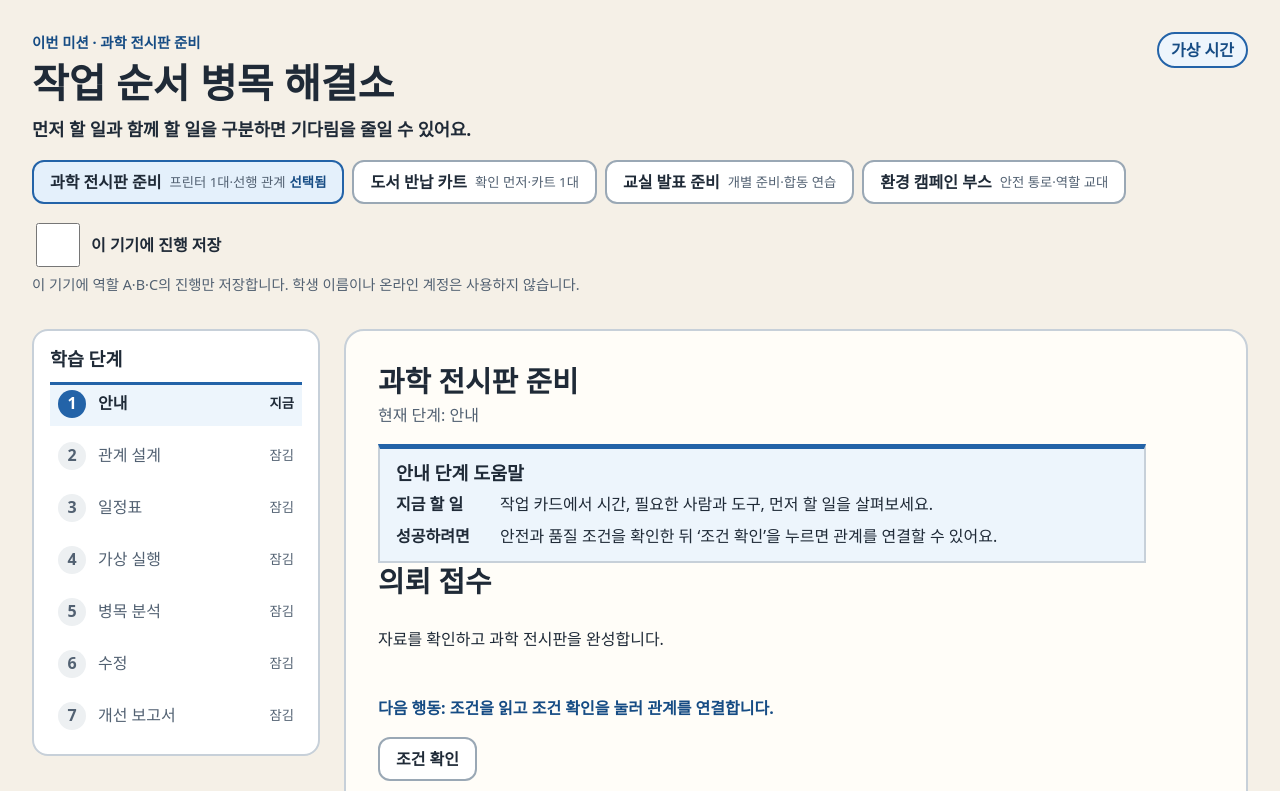
Test: preserves separate attempt state while navigating scenarios
What coordinates should you click on to do the following:
click the button "조건 확인"
I would click on:
 (428, 759)
Its box is [378,737,477,782].
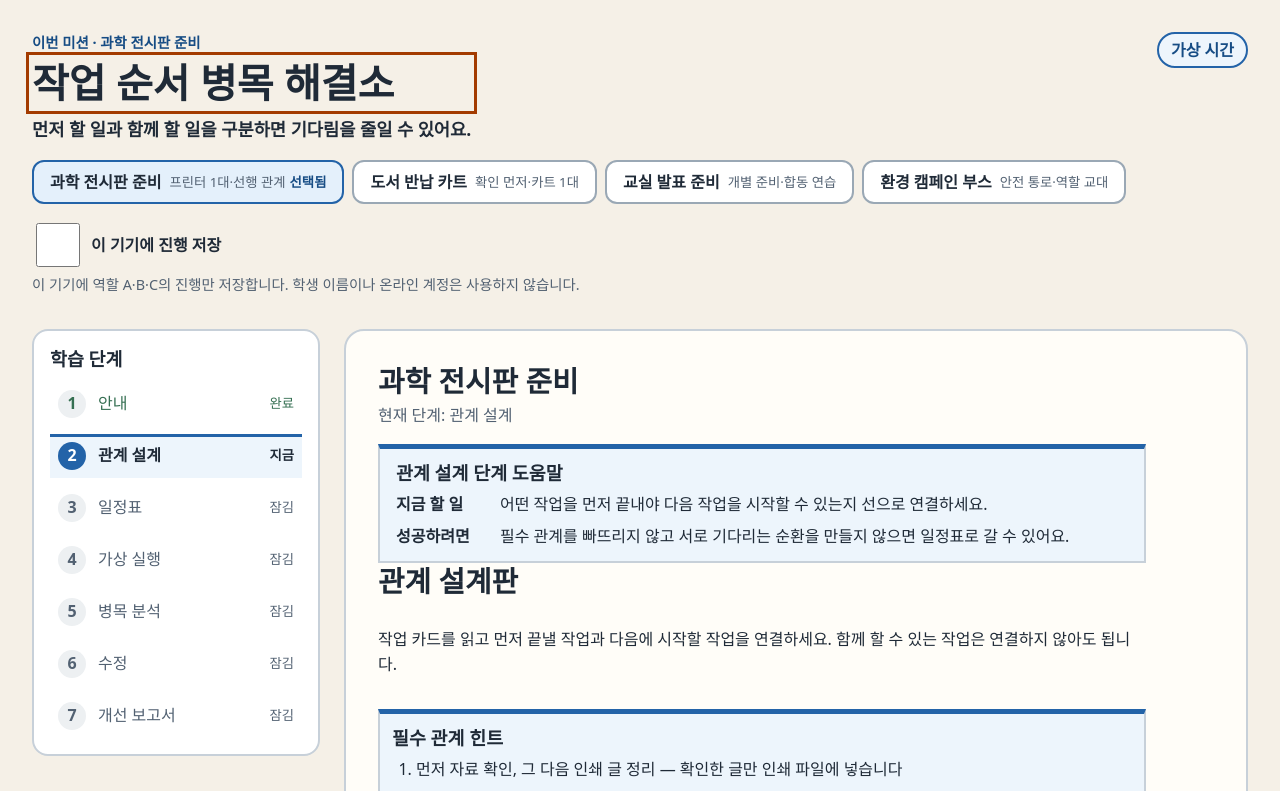
Check: the text "현재 단계: 관계 설계" is shown, box [378,404,512,426]
What coordinates should you click on to do the following:
click the button "도서 반납 카트 확인 먼저·카트 1대"
I would click on:
 (475, 182)
Its box is [352,160,597,204].
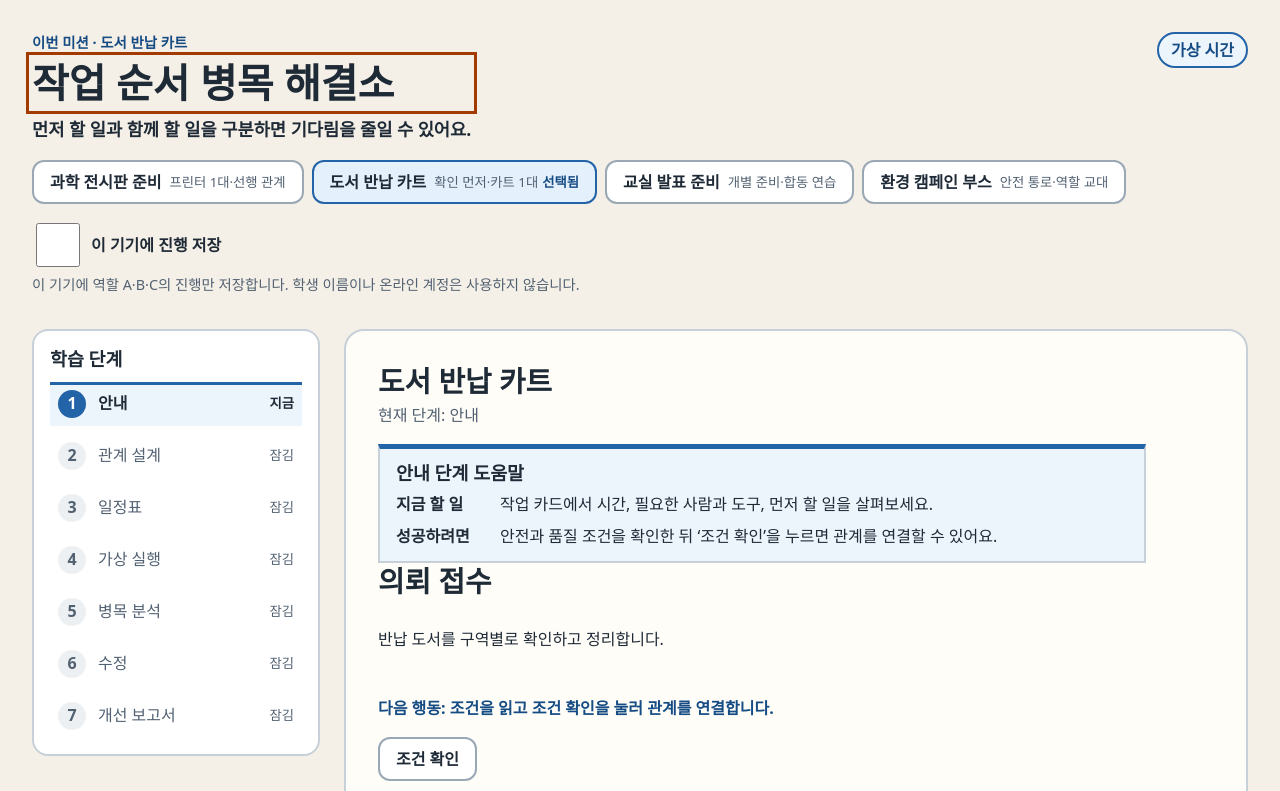
Check: the heading "도서 반납 카트" is shown, box [378,361,552,400]
What coordinates should you click on to do the following:
click the button "과학 전시판 준비 프린터 1대·선행 관계"
I would click on:
 (168, 182)
Its box is [32,160,304,204].
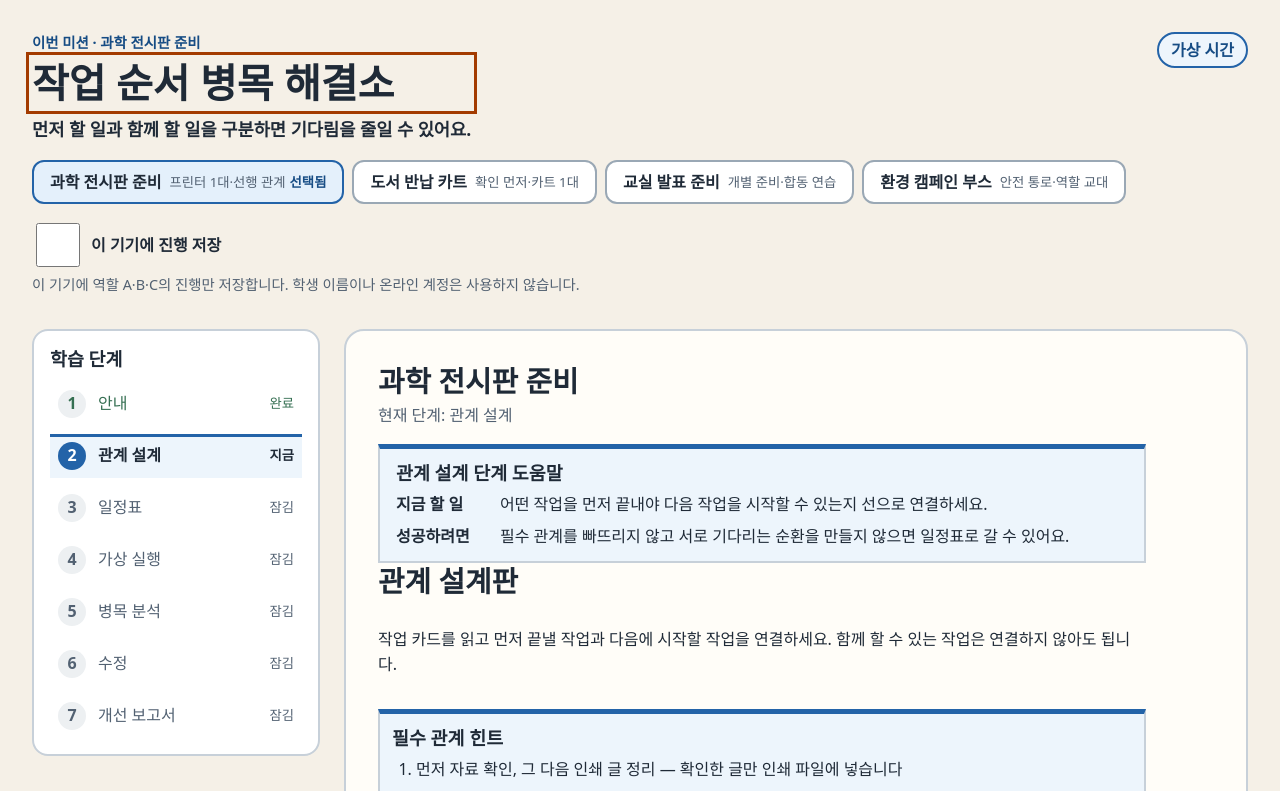
Check: the heading "과학 전시판 준비" is shown, box [378,361,578,400]
Check: the text "현재 단계: 관계 설계" is shown, box [378,404,512,426]
Check: the text "조건 확인" is gone
